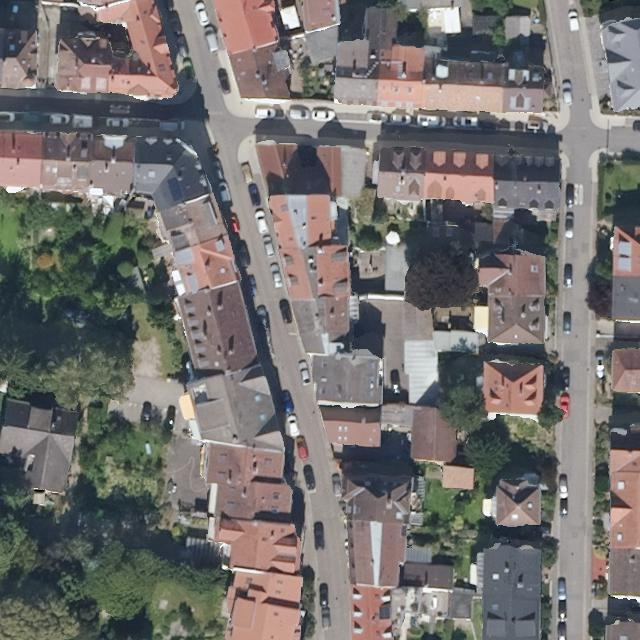PV: (165, 176, 185, 203)
